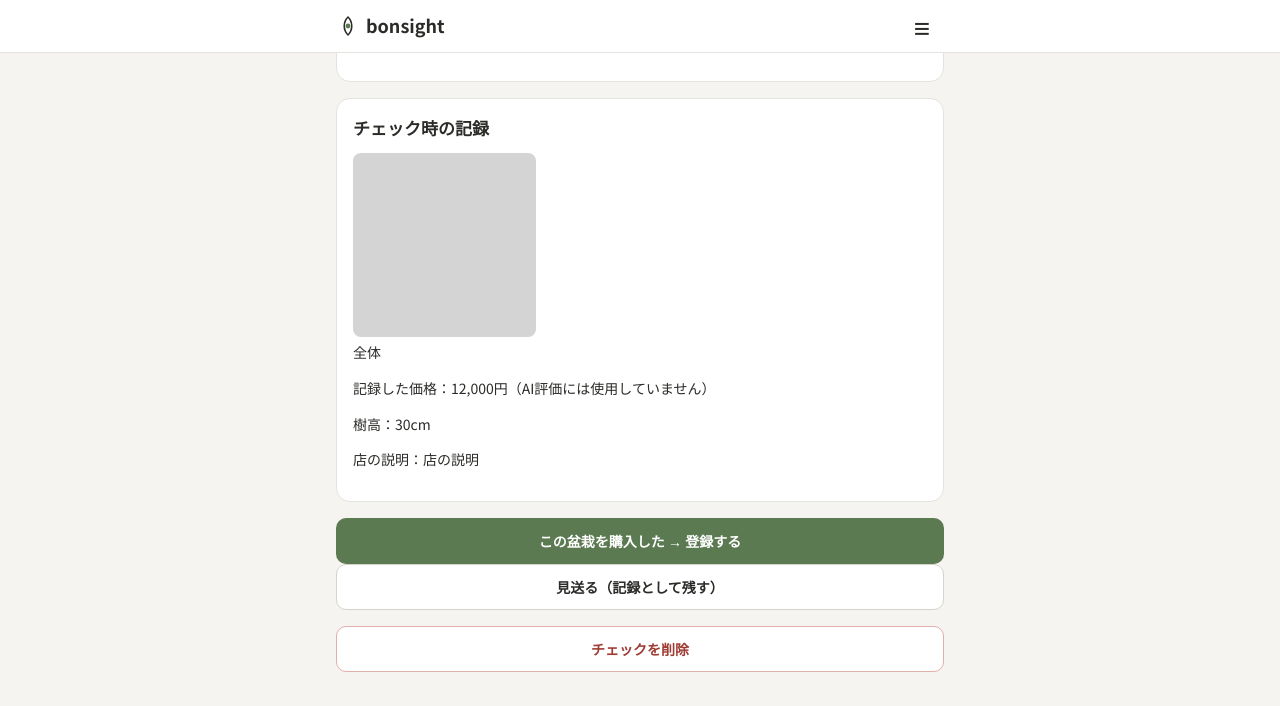
Test case: 購入前チェック › 結果を指定の順に表示し、登録画面へ初期値を引き継ぐ
(page scrolled)
Check: the text "記録した価格：12,000円（AI評価には使用していません）" is shown, box [353,378,716,398]
Click the button "この盆栽を購入した → 登録する".
click(640, 541)  # box [336,518,944,564]
(page scrolled)
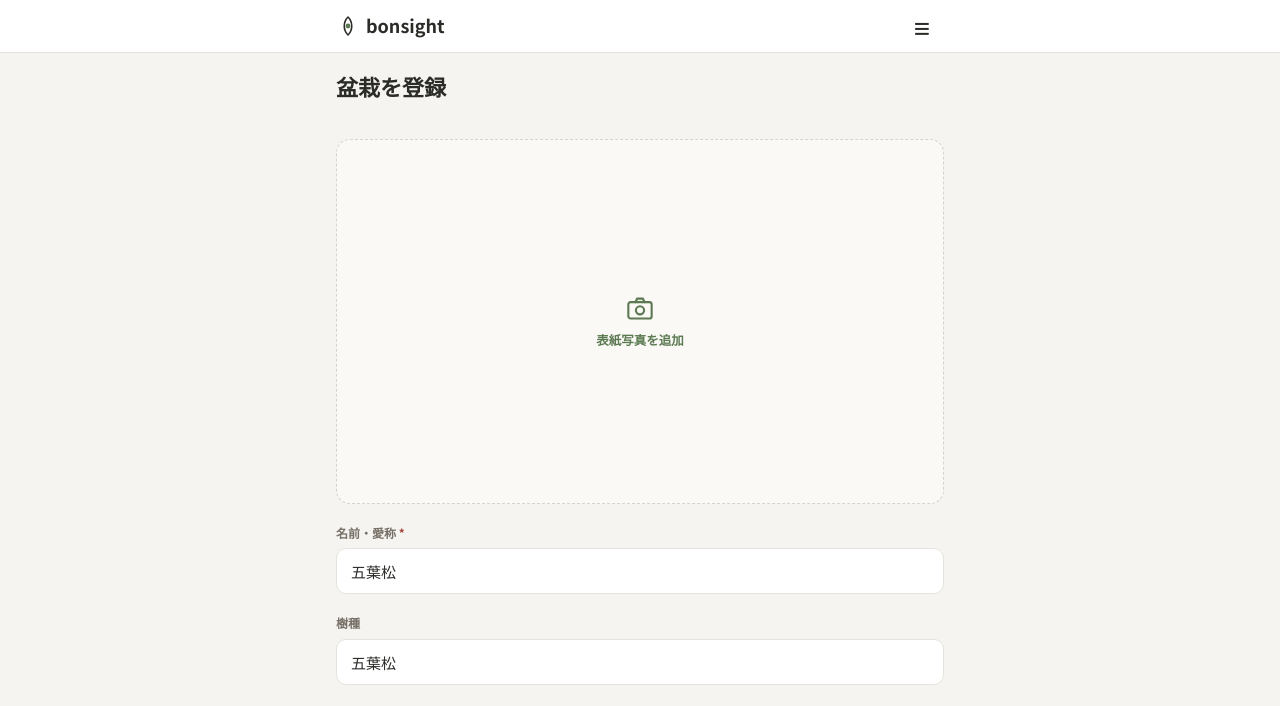
Check: the field named "樹種" holds "五葉松", box [336,639,944,685]
Check: the text "表紙写真を追加" is shown, box [596,330,684,349]
